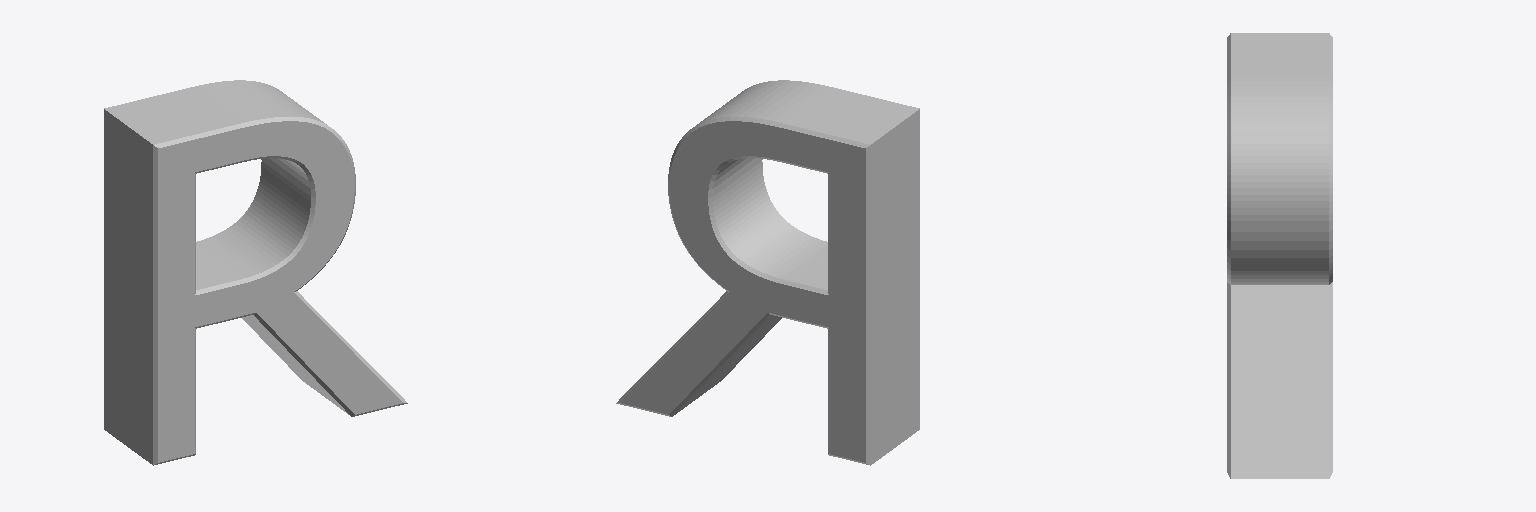
Rendered from font_r.obj.
3 views of the same model, side by side, from view 1: azimuth 30°, elevation 25°; view 2: azimuth 150°, elevation 25°; view 3: azimuth 270°, elevation 25° (orthographic).
Parts seen in each view (by area): view 1: Text; view 2: Text; view 3: Text.
Boxes of the visible parts, x1=… form: Text: x1=104, y1=80, x2=407, y2=465; Text: x1=616, y1=80, x2=919, y2=465; Text: x1=1227, y1=33, x2=1332, y2=478.
Size of the model in its own units: 0.4167 by 0.5006 by 0.15.